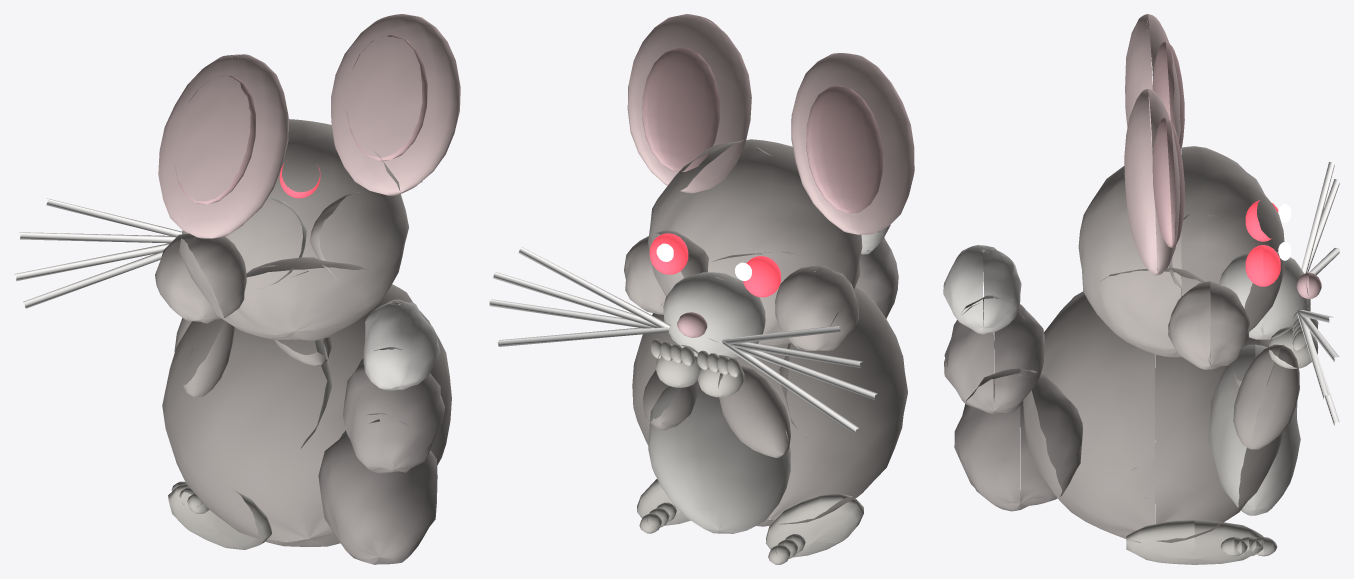
Rendered from pet_chinchilla.glb.
3 views of the same model, side by side, from view 1: azimuth 30°, elevation 25°; view 2: azimuth 150°, elevation 25°; view 3: azimuth 270°, elevation 25° (orthographic). The views are drawn at different scales.
Parts seen in each view (by area): view 1: chinchilla; view 2: chinchilla; view 3: chinchilla.
Part boxes in pixels (x1,y1,x2,y2): chinchilla: (14,14,460,564); chinchilla: (489,14,914,564); chinchilla: (943,14,1339,564).
Bounding box in the file's own units: 0.8416 × 1 × 0.7516.
